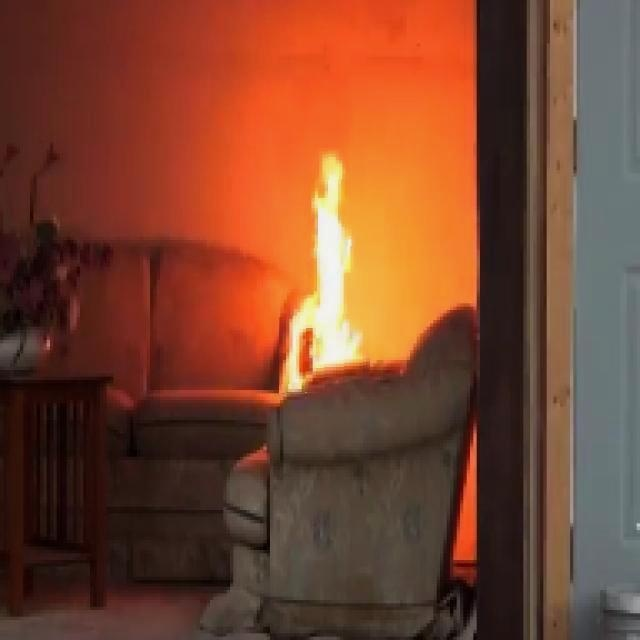fire: (290, 146, 373, 385)
